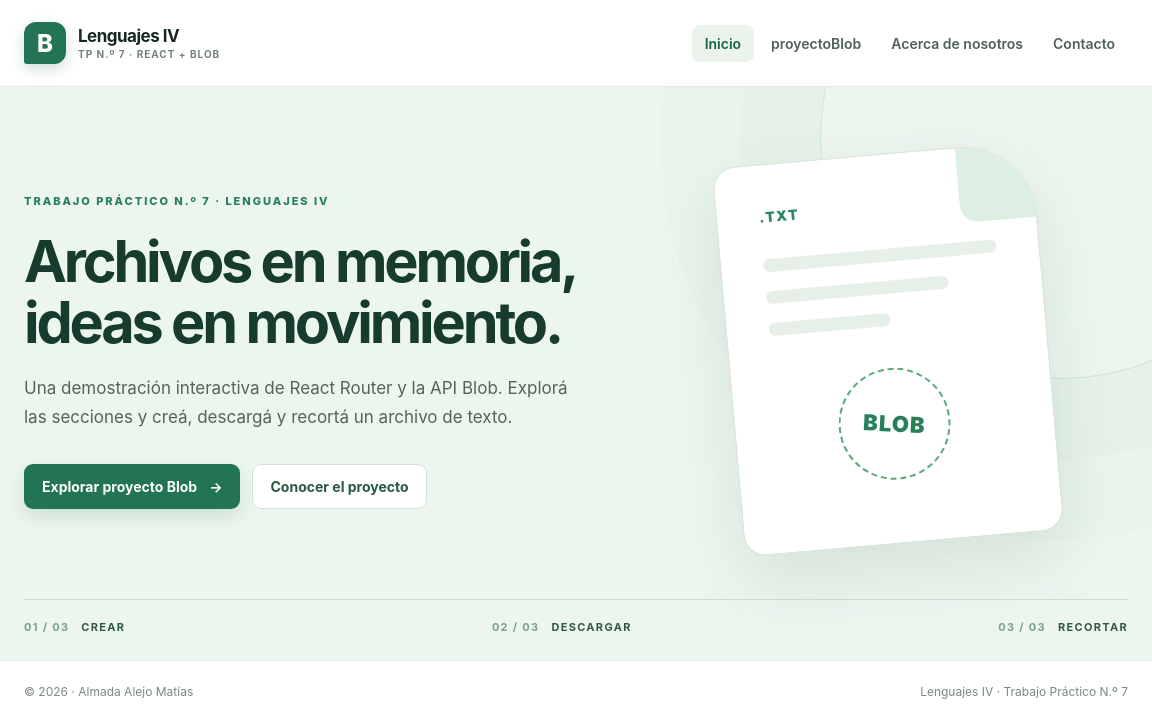
Test: la navegación abre las cuatro secciones sin recargar
This screenshot has width=1152, height=706.
Expected: the heading "Archivos en memoria, ideas en movimiento." is shown, [24,231,611,352]
Click the link "Contacto" at (1084, 43), box [1053,34,1115,52]
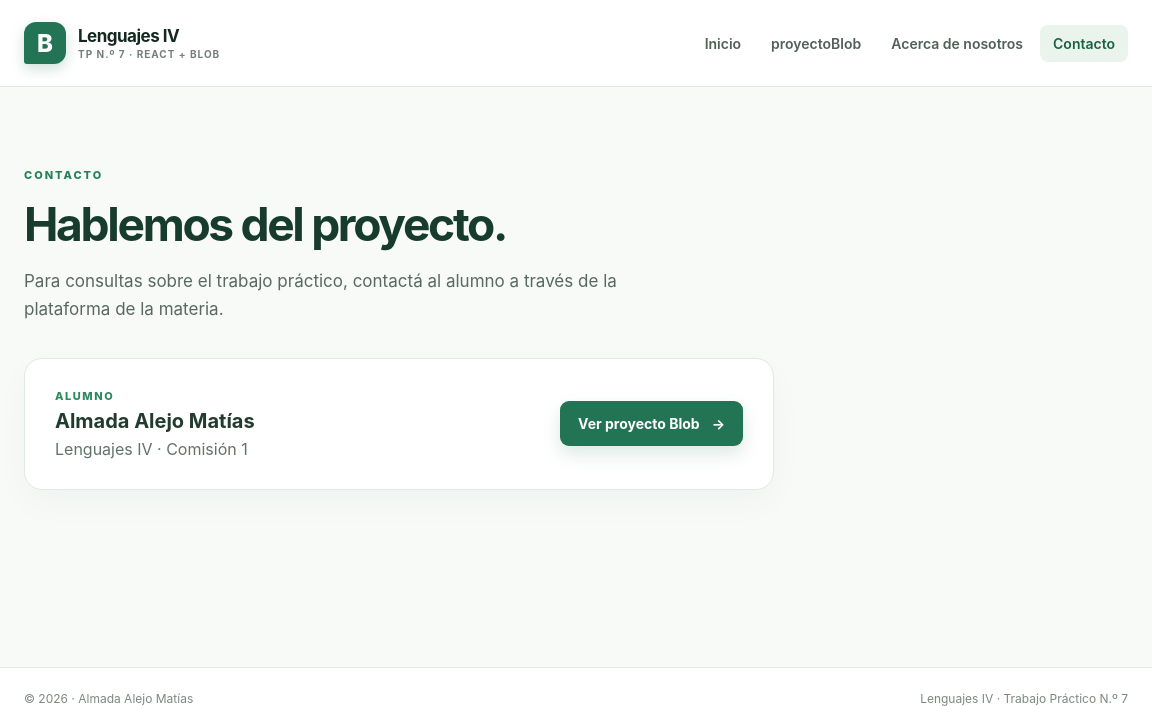
Expected: the heading "Hablemos del proyecto." is shown, [24,196,506,252]
Click the link "Acerca de nosotros" at (957, 43), box [891,34,1023,52]
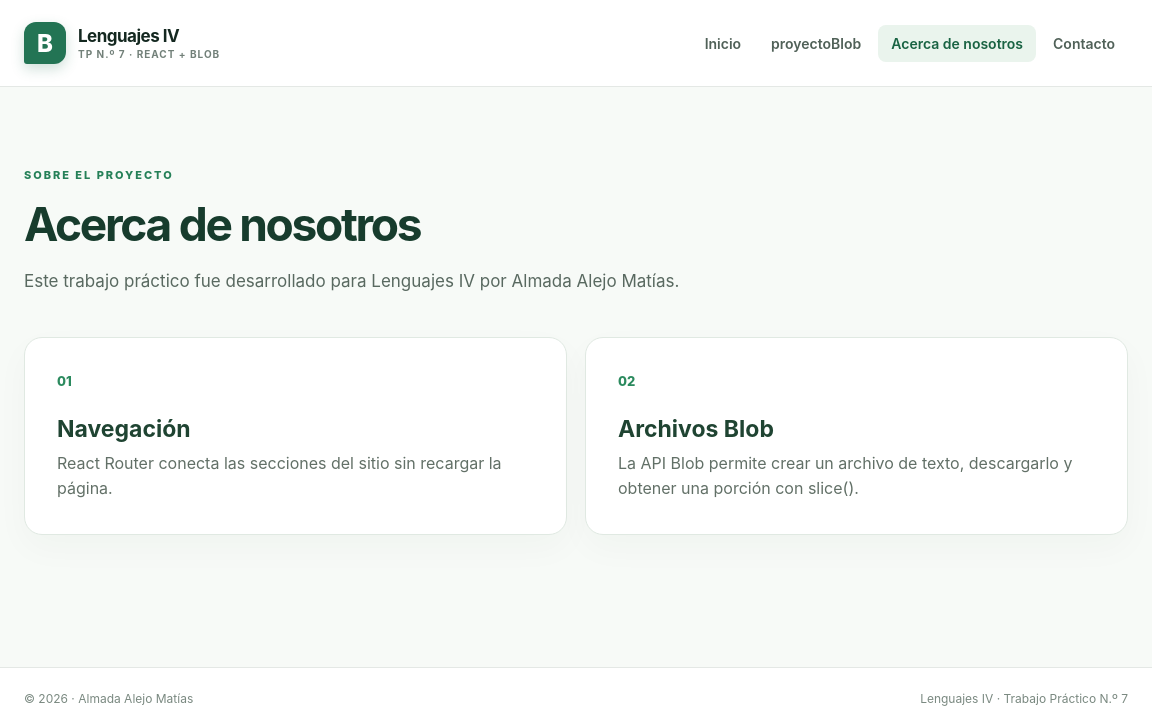
Expected: the heading "Acerca de nosotros" is shown, [24,196,420,252]
Click the link "proyectoBlob" at (816, 43), box [771,34,861,52]
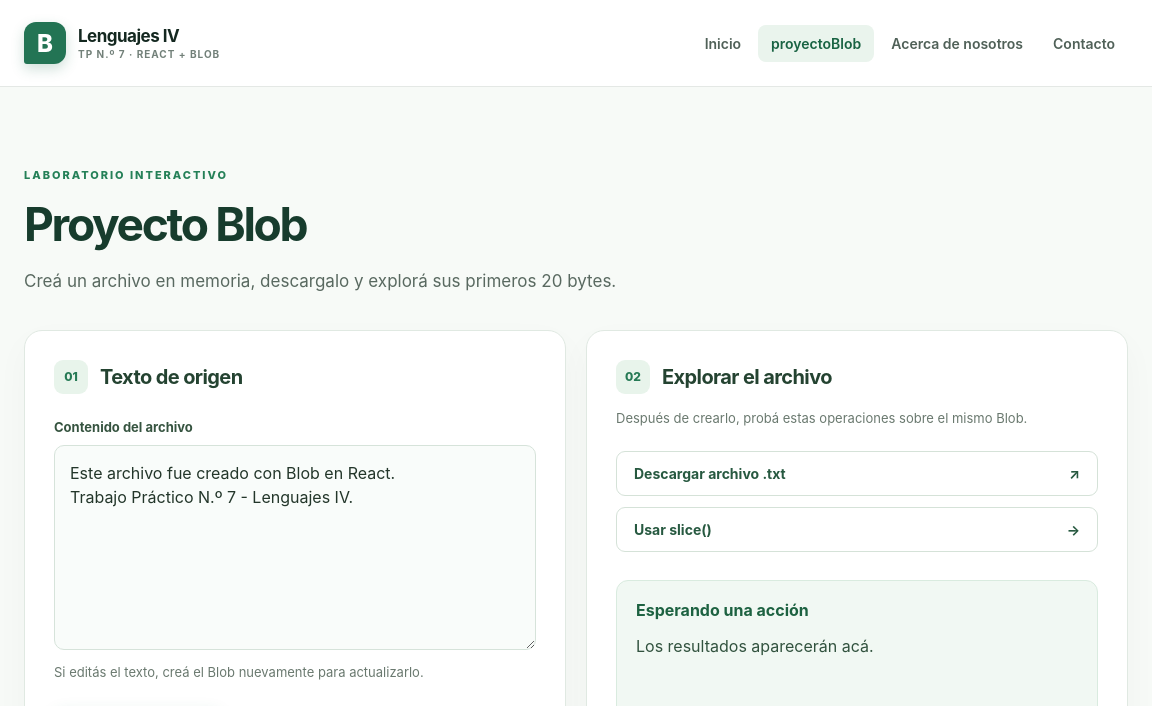
Expected: the heading "Proyecto Blob" is shown, [24,196,306,252]
